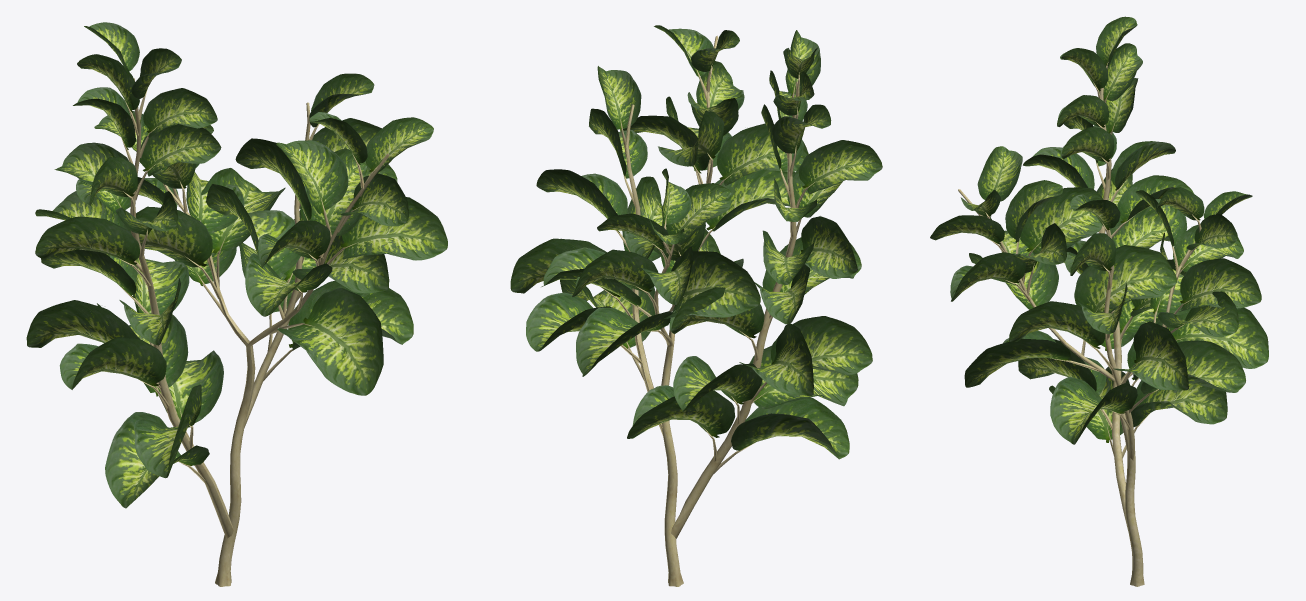
File: tropical_shrub.glb
3 renders of one model, left to right at view 1: azimuth 30°, elevation 25°; view 2: azimuth 150°, elevation 25°; view 3: azimuth 270°, elevation 25°, orthographic. The views are drawn at different scales.
Parts seen in each view (by area): view 1: Tree_1, Tree_0; view 2: Tree_1, Tree_0; view 3: Tree_1, Tree_0.
Boxes of the visible parts, left/top/right/bottom form: Tree_1: left=26, top=22, right=447, bottom=508; Tree_0: left=116, top=78, right=389, bottom=586; Tree_1: left=510, top=25, right=882, bottom=459; Tree_0: left=601, top=35, right=816, bottom=586; Tree_1: left=930, top=16, right=1268, bottom=444; Tree_0: left=958, top=62, right=1201, bottom=586.
Bounding box in the file's own units: 1.21 × 1.9 × 1.25.
2 materials, 2 textured.
